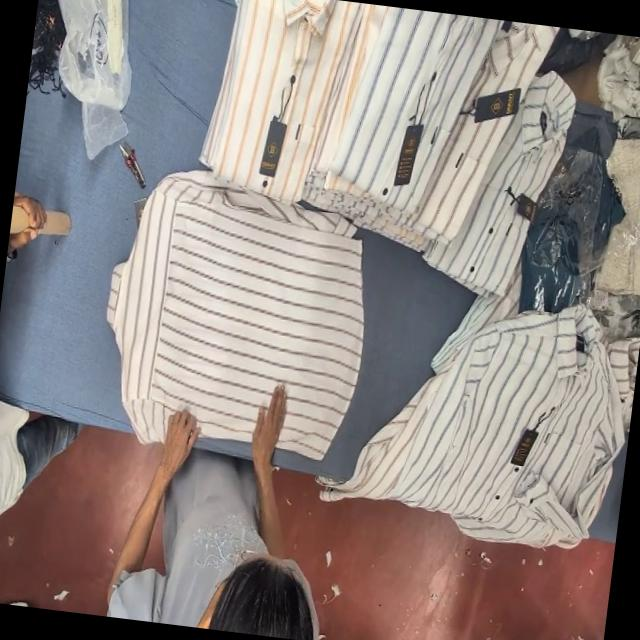new-garment: (107, 172, 362, 457)
